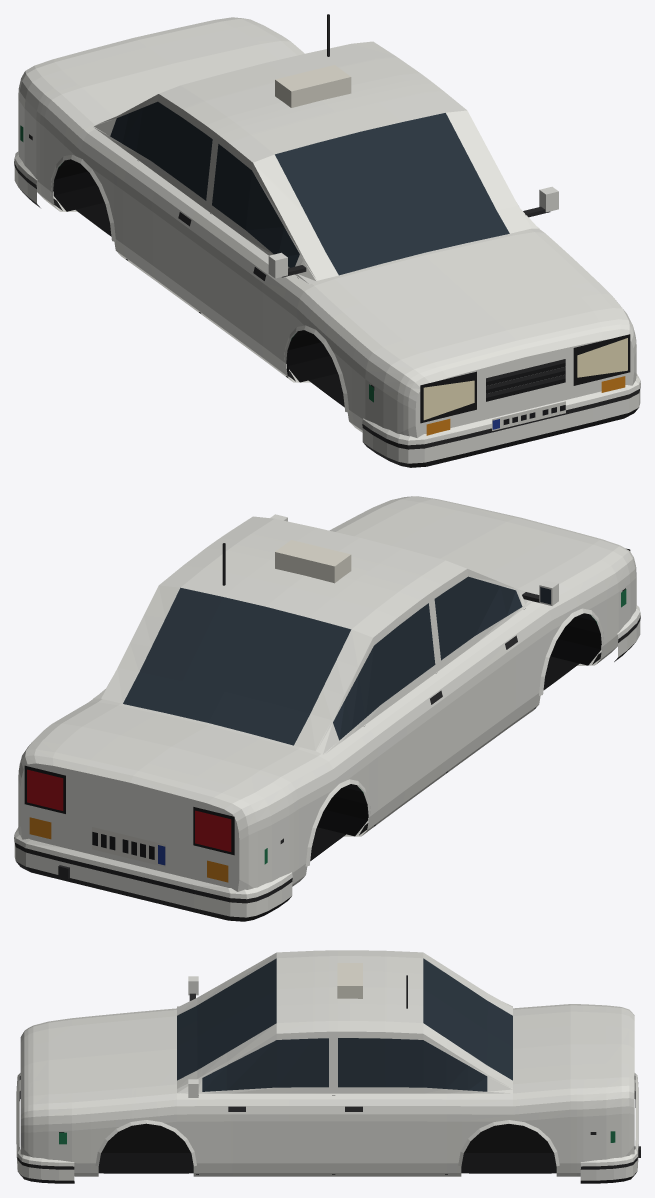
The model's file is marelo-sirio-taxi.glb.
The picture shows the model from 3 angles, top to bottom: view 1: azimuth 30°, elevation 25°; view 2: azimuth 150°, elevation 25°; view 3: azimuth 270°, elevation 25°; orthographic projection. The views are drawn at different scales.
Parts seen in each view (by area): view 1: LOD0, door_FR, door_RR; view 2: LOD0, door_FR, door_RR; view 3: LOD0, door_FL, door_RL.
Boxes of the visible parts, bbox=[...] form: LOD0: bbox=[14, 14, 640, 467]; door_FR: bbox=[197, 136, 303, 374]; door_RR: bbox=[123, 94, 213, 309]; LOD0: bbox=[14, 496, 640, 921]; door_FR: bbox=[433, 569, 538, 768]; door_RR: bbox=[358, 595, 449, 822]; LOD0: bbox=[16, 950, 640, 1183]; door_FL: bbox=[197, 1031, 331, 1172]; door_RL: bbox=[335, 1031, 446, 1172].
Size of what is drawn, in the model's own units: 1.99 by 1.56 by 4.9.
